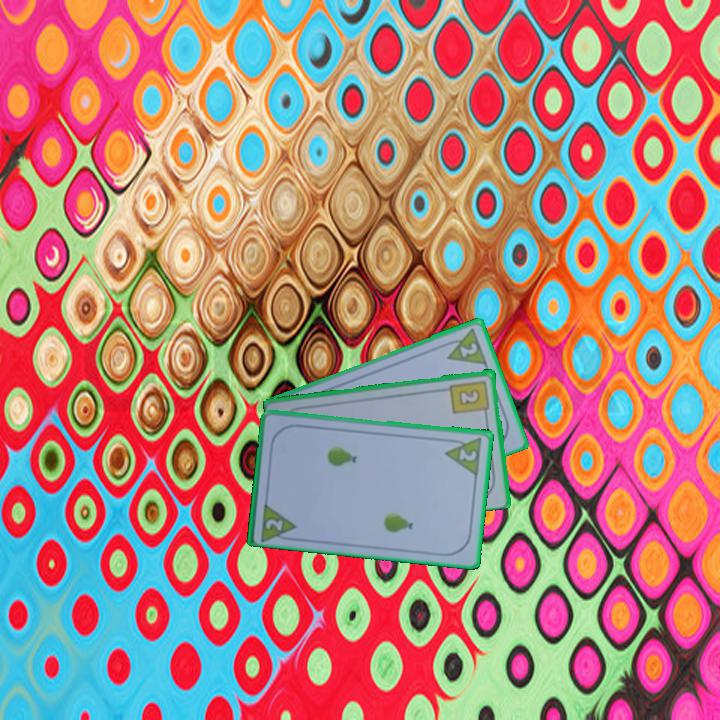2b: (447, 377, 492, 419)
2p: (439, 324, 490, 367), (455, 445, 480, 464), (262, 515, 286, 533)
